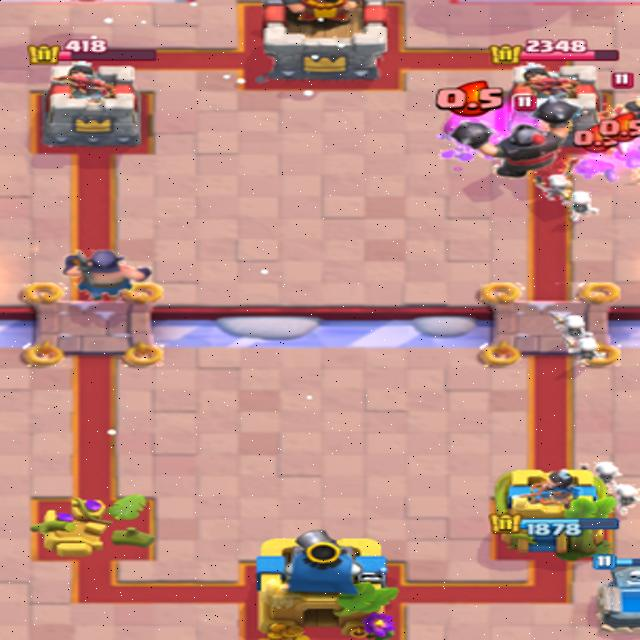EKingTower: (264, 0, 387, 82)
EMegaKnight: (482, 100, 563, 174)
EnemyPrincessTower: (43, 59, 143, 148), (514, 65, 595, 104)
OEx: (65, 247, 154, 303)
OTomb: (589, 553, 640, 627)
OwnKingTower: (257, 535, 386, 636)
OwnPrincessTower: (504, 469, 603, 546)
TowerDown: (31, 489, 157, 562)
